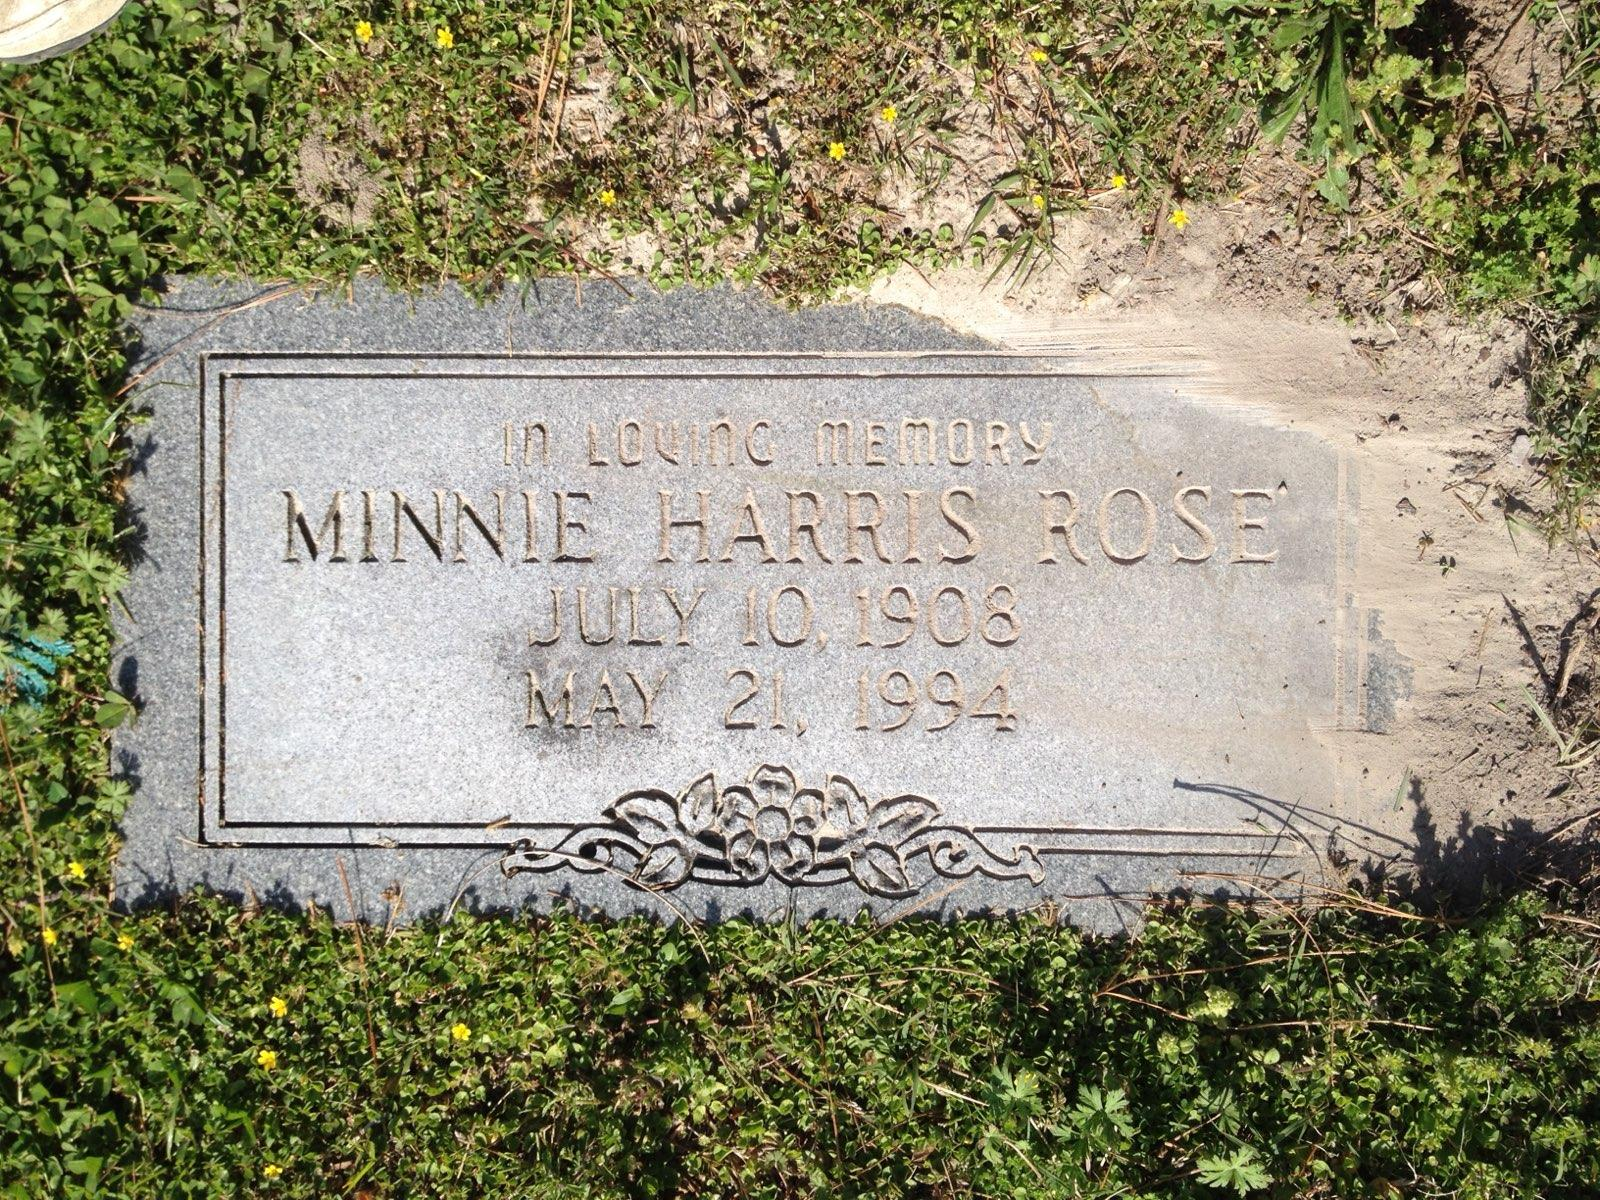flat: (105, 250, 1432, 916)
